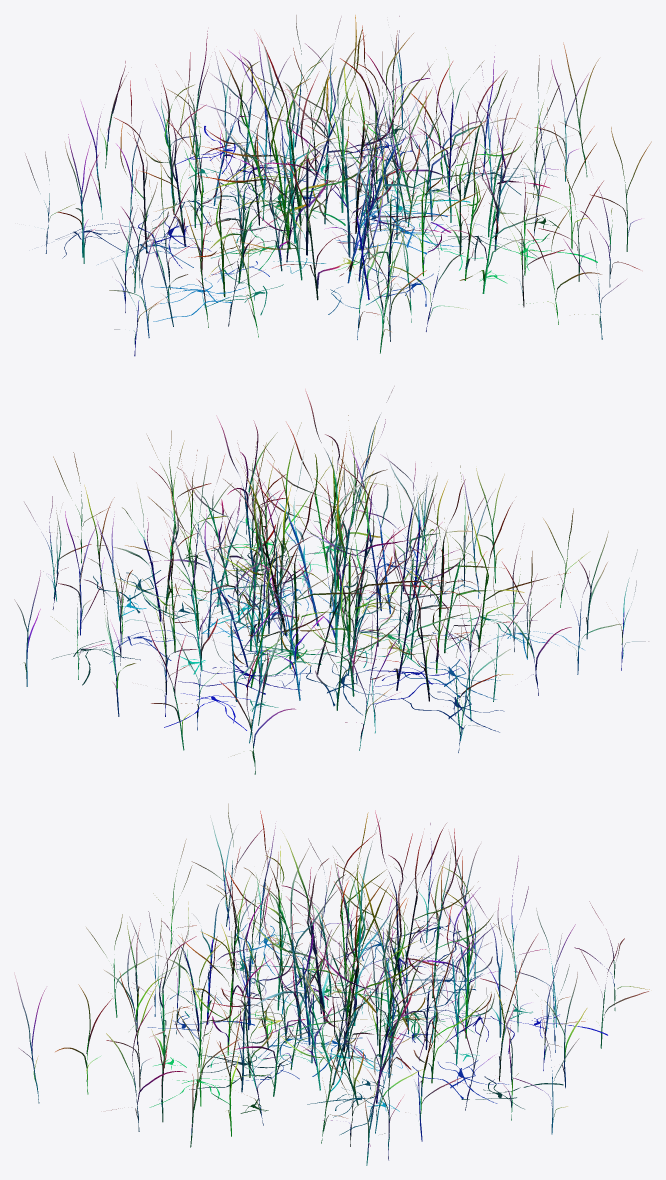
Rendered from Kikuyu_Grass_wiljearqx_Raw_wiljearqx_VarC_LOD0.fbx.
The picture shows the model from 3 angles, top to bottom: view 1: azimuth 30°, elevation 25°; view 2: azimuth 150°, elevation 25°; view 3: azimuth 270°, elevation 25°; orthographic projection. The views are drawn at different scales.
Parts seen in each view (by area): view 1: _afz6_VarC_High; view 2: _afz6_VarC_High; view 3: _afz6_VarC_High.
Part boxes in pixels (x1,y1,x2,y2): _afz6_VarC_High: (25, 15, 651, 356); _afz6_VarC_High: (14, 386, 649, 774); _afz6_VarC_High: (14, 803, 649, 1165).
Size of the model in its own units: 115 by 42.63 by 118.
